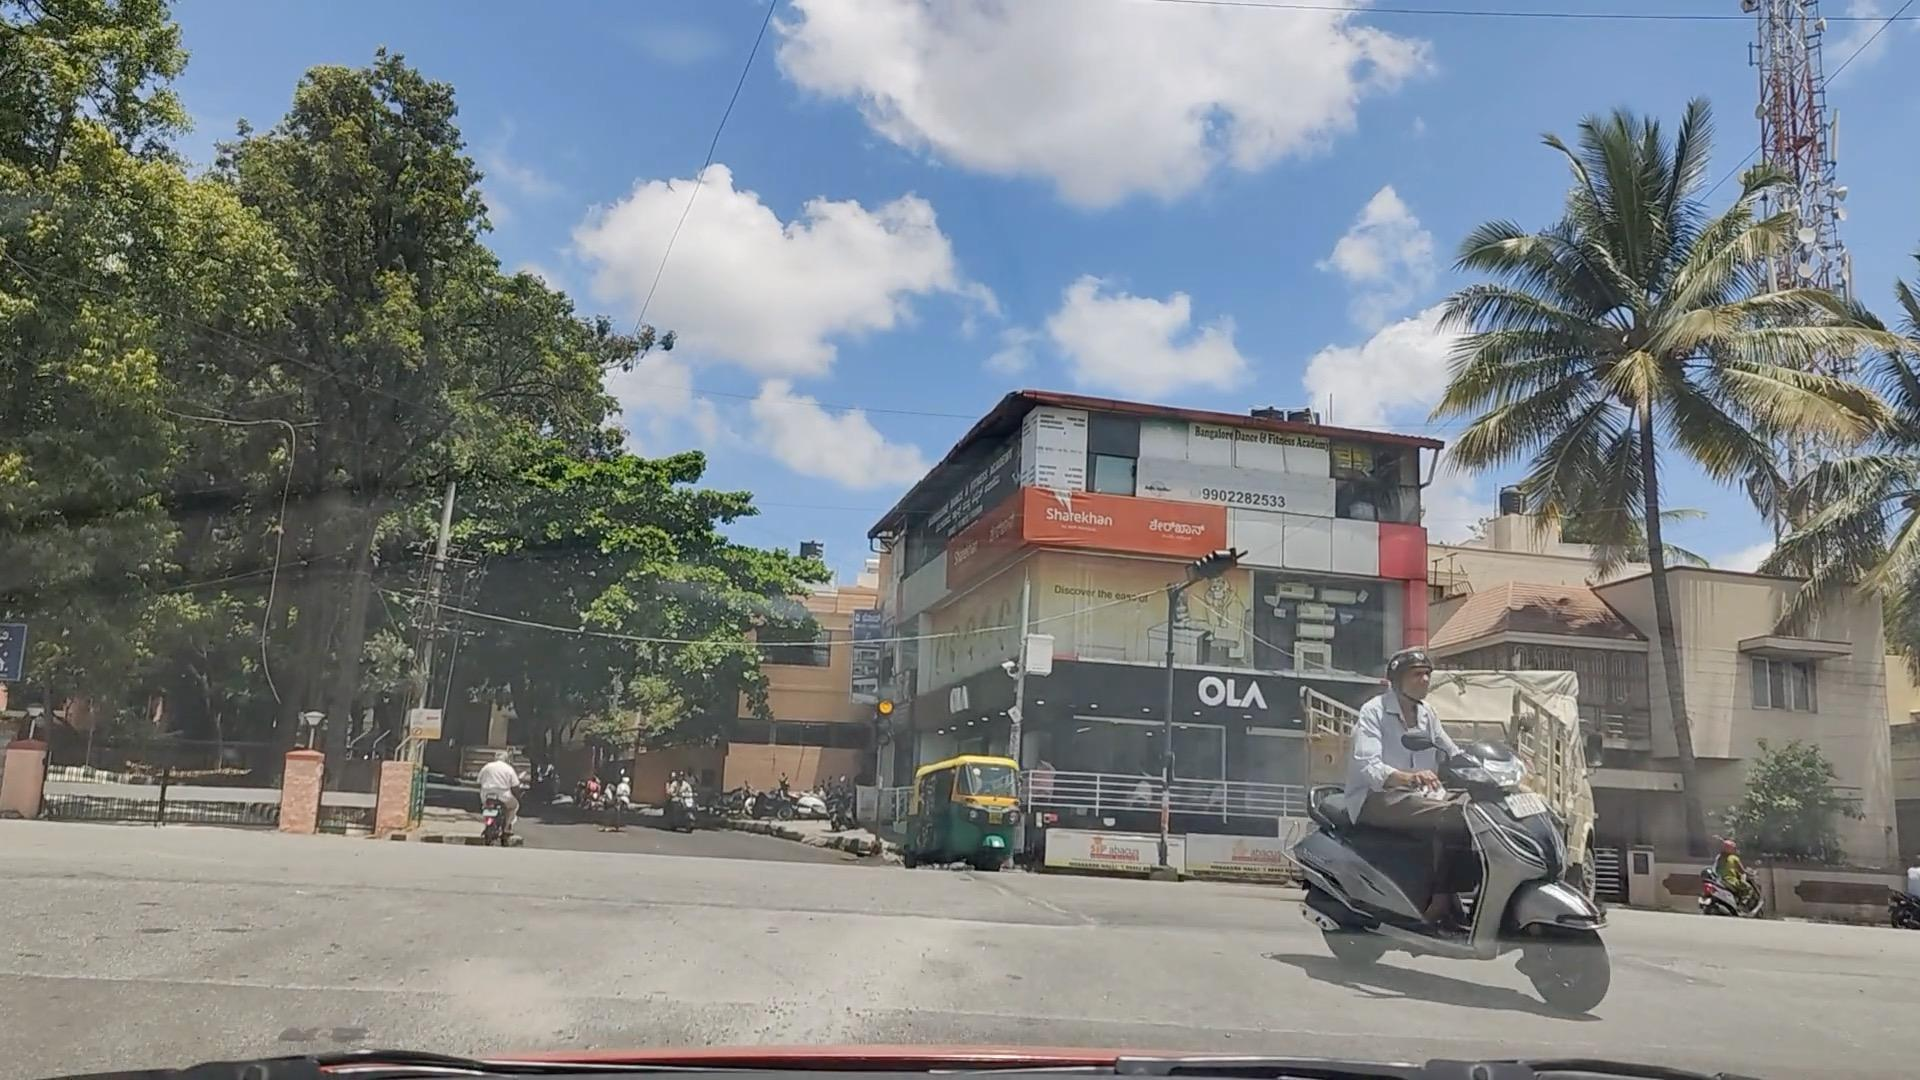LMV: (1267, 663, 1607, 998), (910, 744, 1029, 878)
